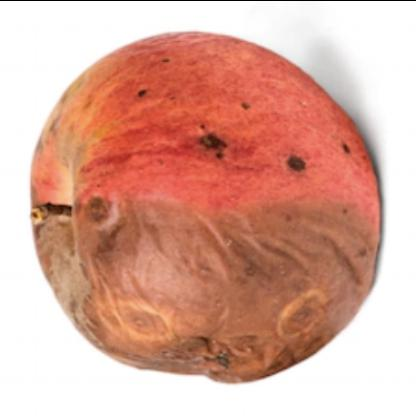Rotten Apple: (32, 32, 386, 386)
